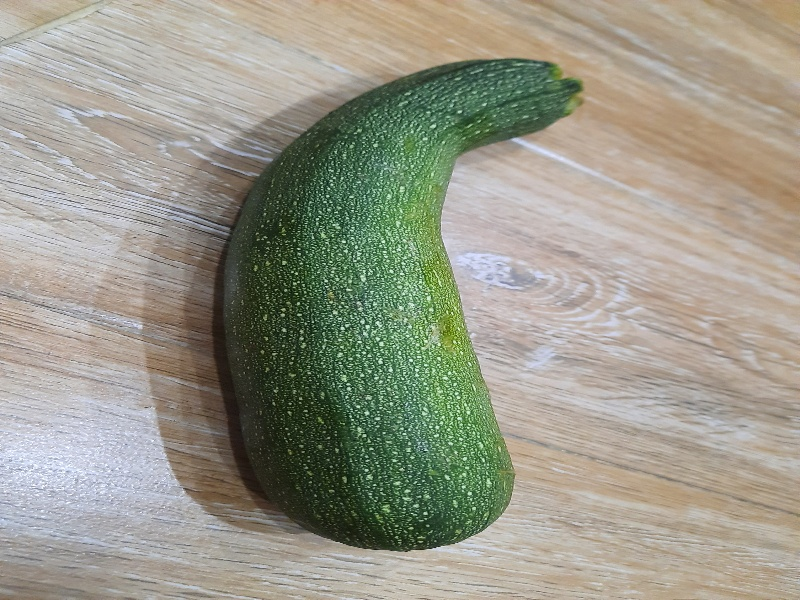vege: (211, 56, 594, 556)
